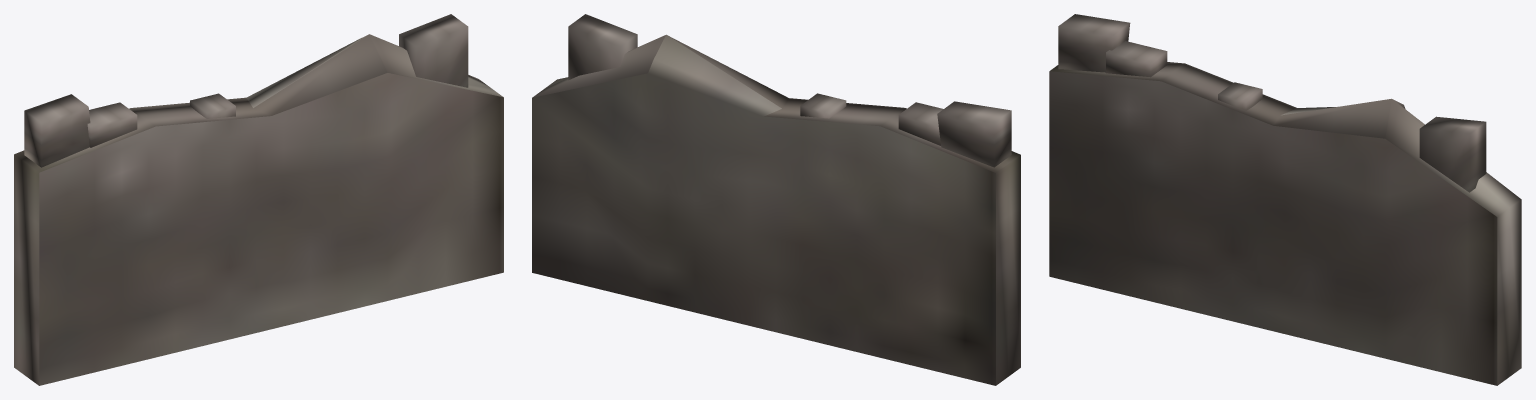
File: ruin4.glb
3 views of the same model, side by side, from view 1: azimuth 30°, elevation 25°; view 2: azimuth 150°, elevation 25°; view 3: azimuth 330°, elevation 25° (orthographic). The views are drawn at different scales.
Parts seen in each view (by area): view 1: ruin4; view 2: ruin4; view 3: ruin4.
Part boxes in pixels (x1,y1,x2,y2): ruin4: (14,14,503,385); ruin4: (532,14,1020,385); ruin4: (1049,14,1521,385).
Bounding box in the file's own units: 8 × 4.26 × 0.7812.
1 material, 1 textured.
